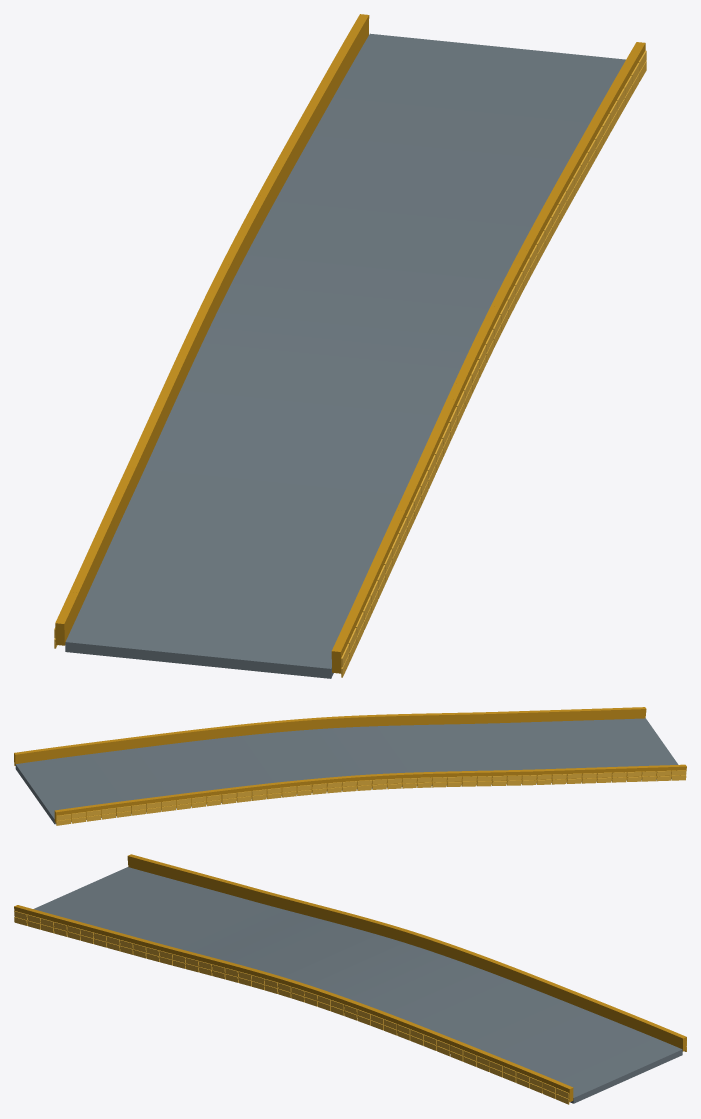
File: bridge_shell.glb
3 views of the same model, one above another, from view 1: azimuth 30°, elevation 25°; view 2: azimuth 150°, elevation 25°; view 3: azimuth 270°, elevation 25° (orthographic). The views are drawn at different scales.
Visible parts, largest first — view 1: DeckShell, GoldParapets, GoldPanels; view 2: DeckShell, GoldParapets, GoldPanels; view 3: DeckShell, GoldParapets, GoldPanels.
Part boxes in pixels (<box>): DeckShell: <box>65,33,625,678</box>; GoldParapets: <box>55,14,645,673</box>; GoldPanels: <box>54,50,646,677</box>; DeckShell: <box>15,718,678,824</box>; GoldParapets: <box>14,707,686,823</box>; GoldPanels: <box>14,765,686,825</box>; DeckShell: <box>33,867,682,1103</box>; GoldParapets: <box>14,854,686,1102</box>; GoldPanels: <box>14,911,686,1104</box>.
Size of the model in its own units: 71.21 by 6.84 by 73.83.
